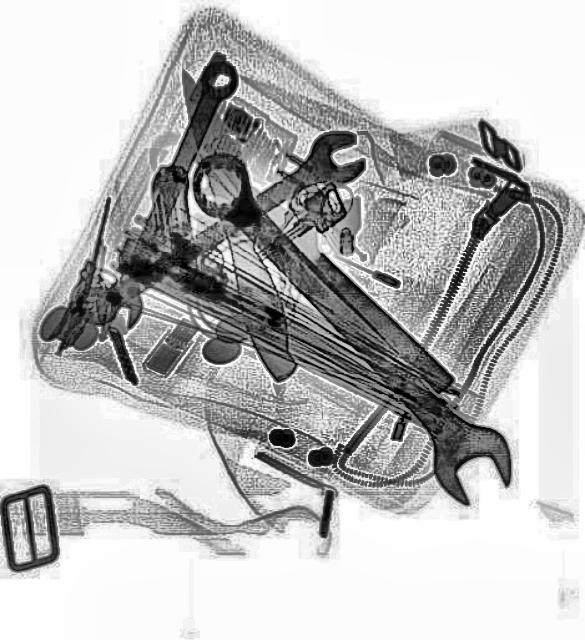Gun: (110, 156, 318, 336)
Knife: (192, 131, 462, 397), (169, 60, 308, 386)
Wrench: (170, 131, 534, 523), (62, 117, 372, 335), (92, 51, 242, 336)
